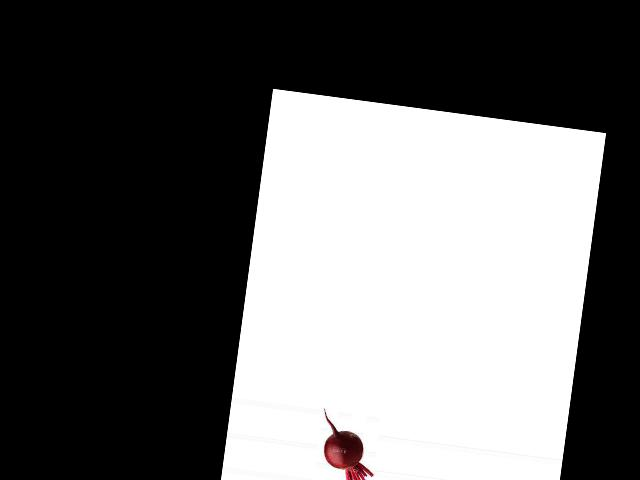beet: (314, 409, 381, 480)
